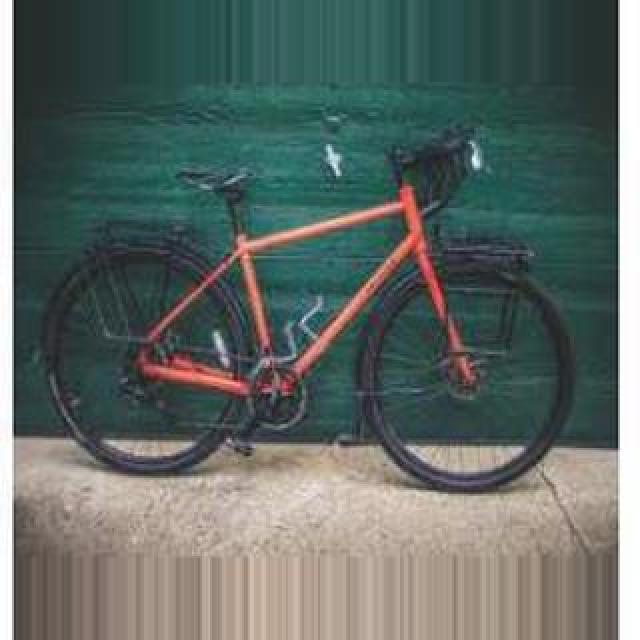Person: (40, 122, 576, 496)
